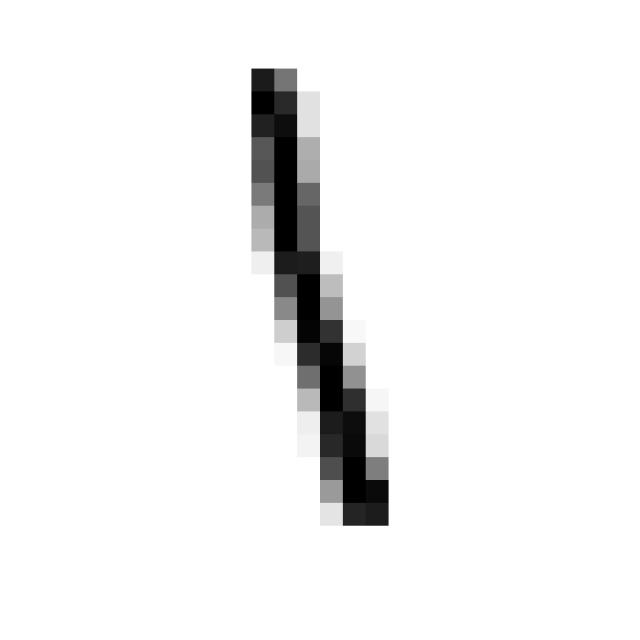1 -one-: (224, 48, 413, 543)
